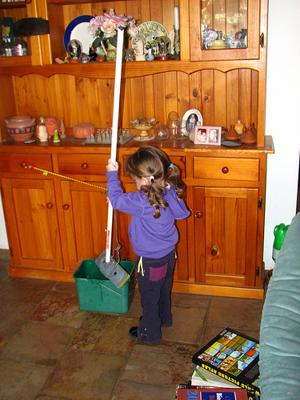person: (106, 146, 191, 346)
